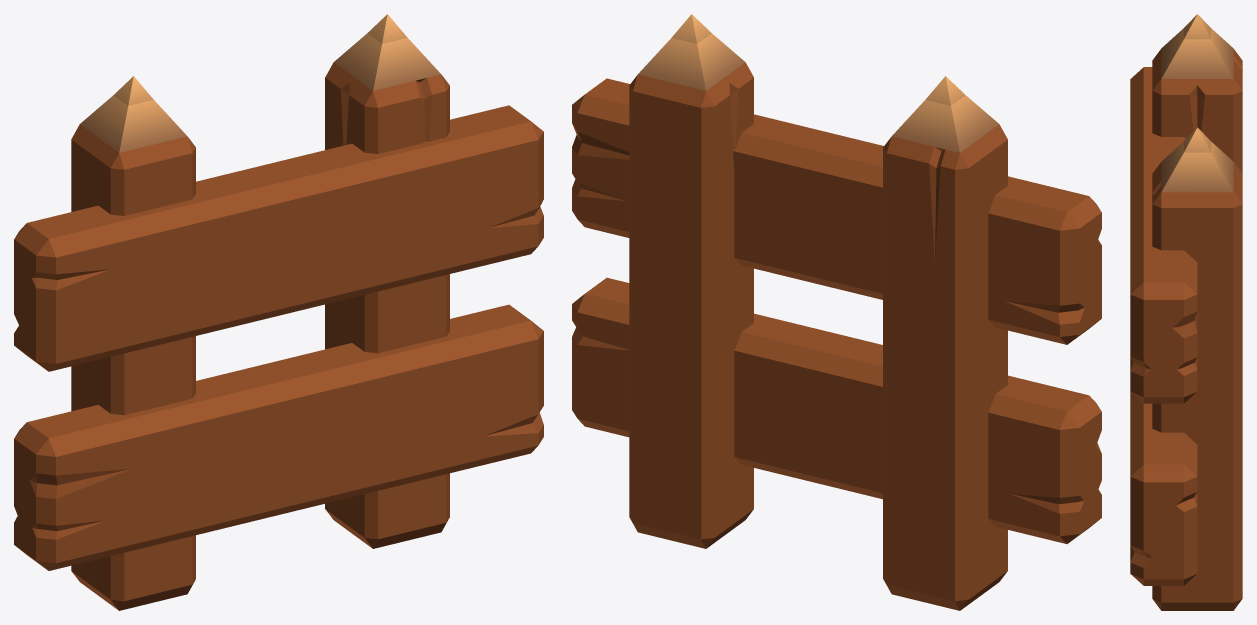
Rendered from m_dec_dung_fenceSmallB.fbx.
The picture shows the model from 3 angles, left to right: view 1: azimuth 30°, elevation 25°; view 2: azimuth 150°, elevation 25°; view 3: azimuth 270°, elevation 25°; orthographic projection. The views are drawn at different scales.
Parts seen in each view (by area): view 1: m_dec_dung_fenceSmallB; view 2: m_dec_dung_fenceSmallB; view 3: m_dec_dung_fenceSmallB.
Part boxes in pixels (<box>): m_dec_dung_fenceSmallB: <box>14,14,543,610</box>; m_dec_dung_fenceSmallB: <box>572,14,1101,610</box>; m_dec_dung_fenceSmallB: <box>1130,14,1242,610</box>.
Bounding box in the file's own units: 4 × 3.86 × 0.837.
